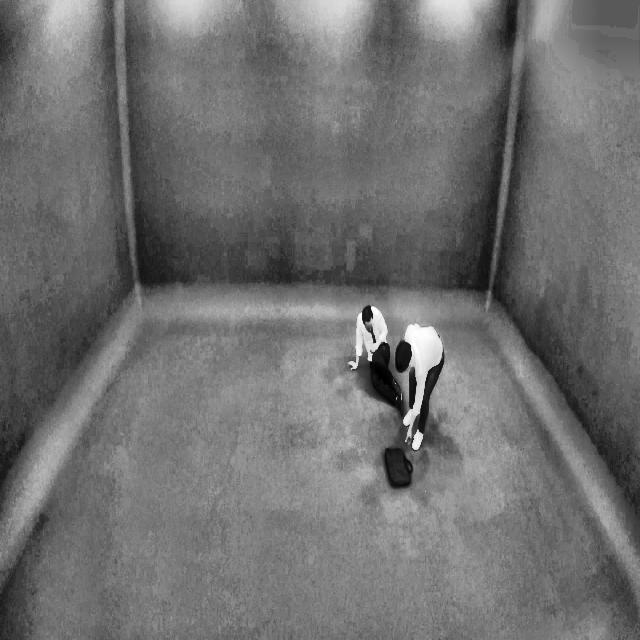assult: (350, 284, 444, 440)
